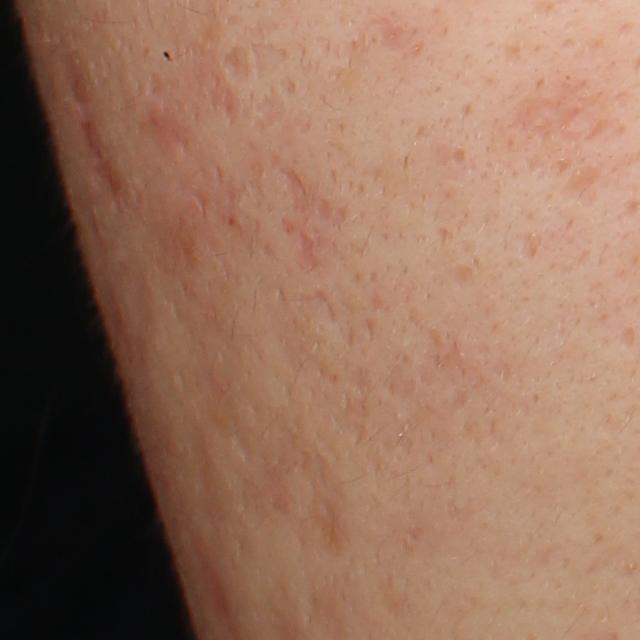atrophic_scar: (293, 447, 350, 569), (505, 78, 593, 149), (332, 367, 372, 446), (556, 157, 608, 205), (418, 344, 468, 388), (277, 166, 314, 216), (285, 289, 333, 323), (221, 42, 251, 91), (293, 230, 324, 274), (507, 229, 540, 263), (444, 264, 479, 287), (613, 325, 636, 351), (360, 318, 378, 345)
